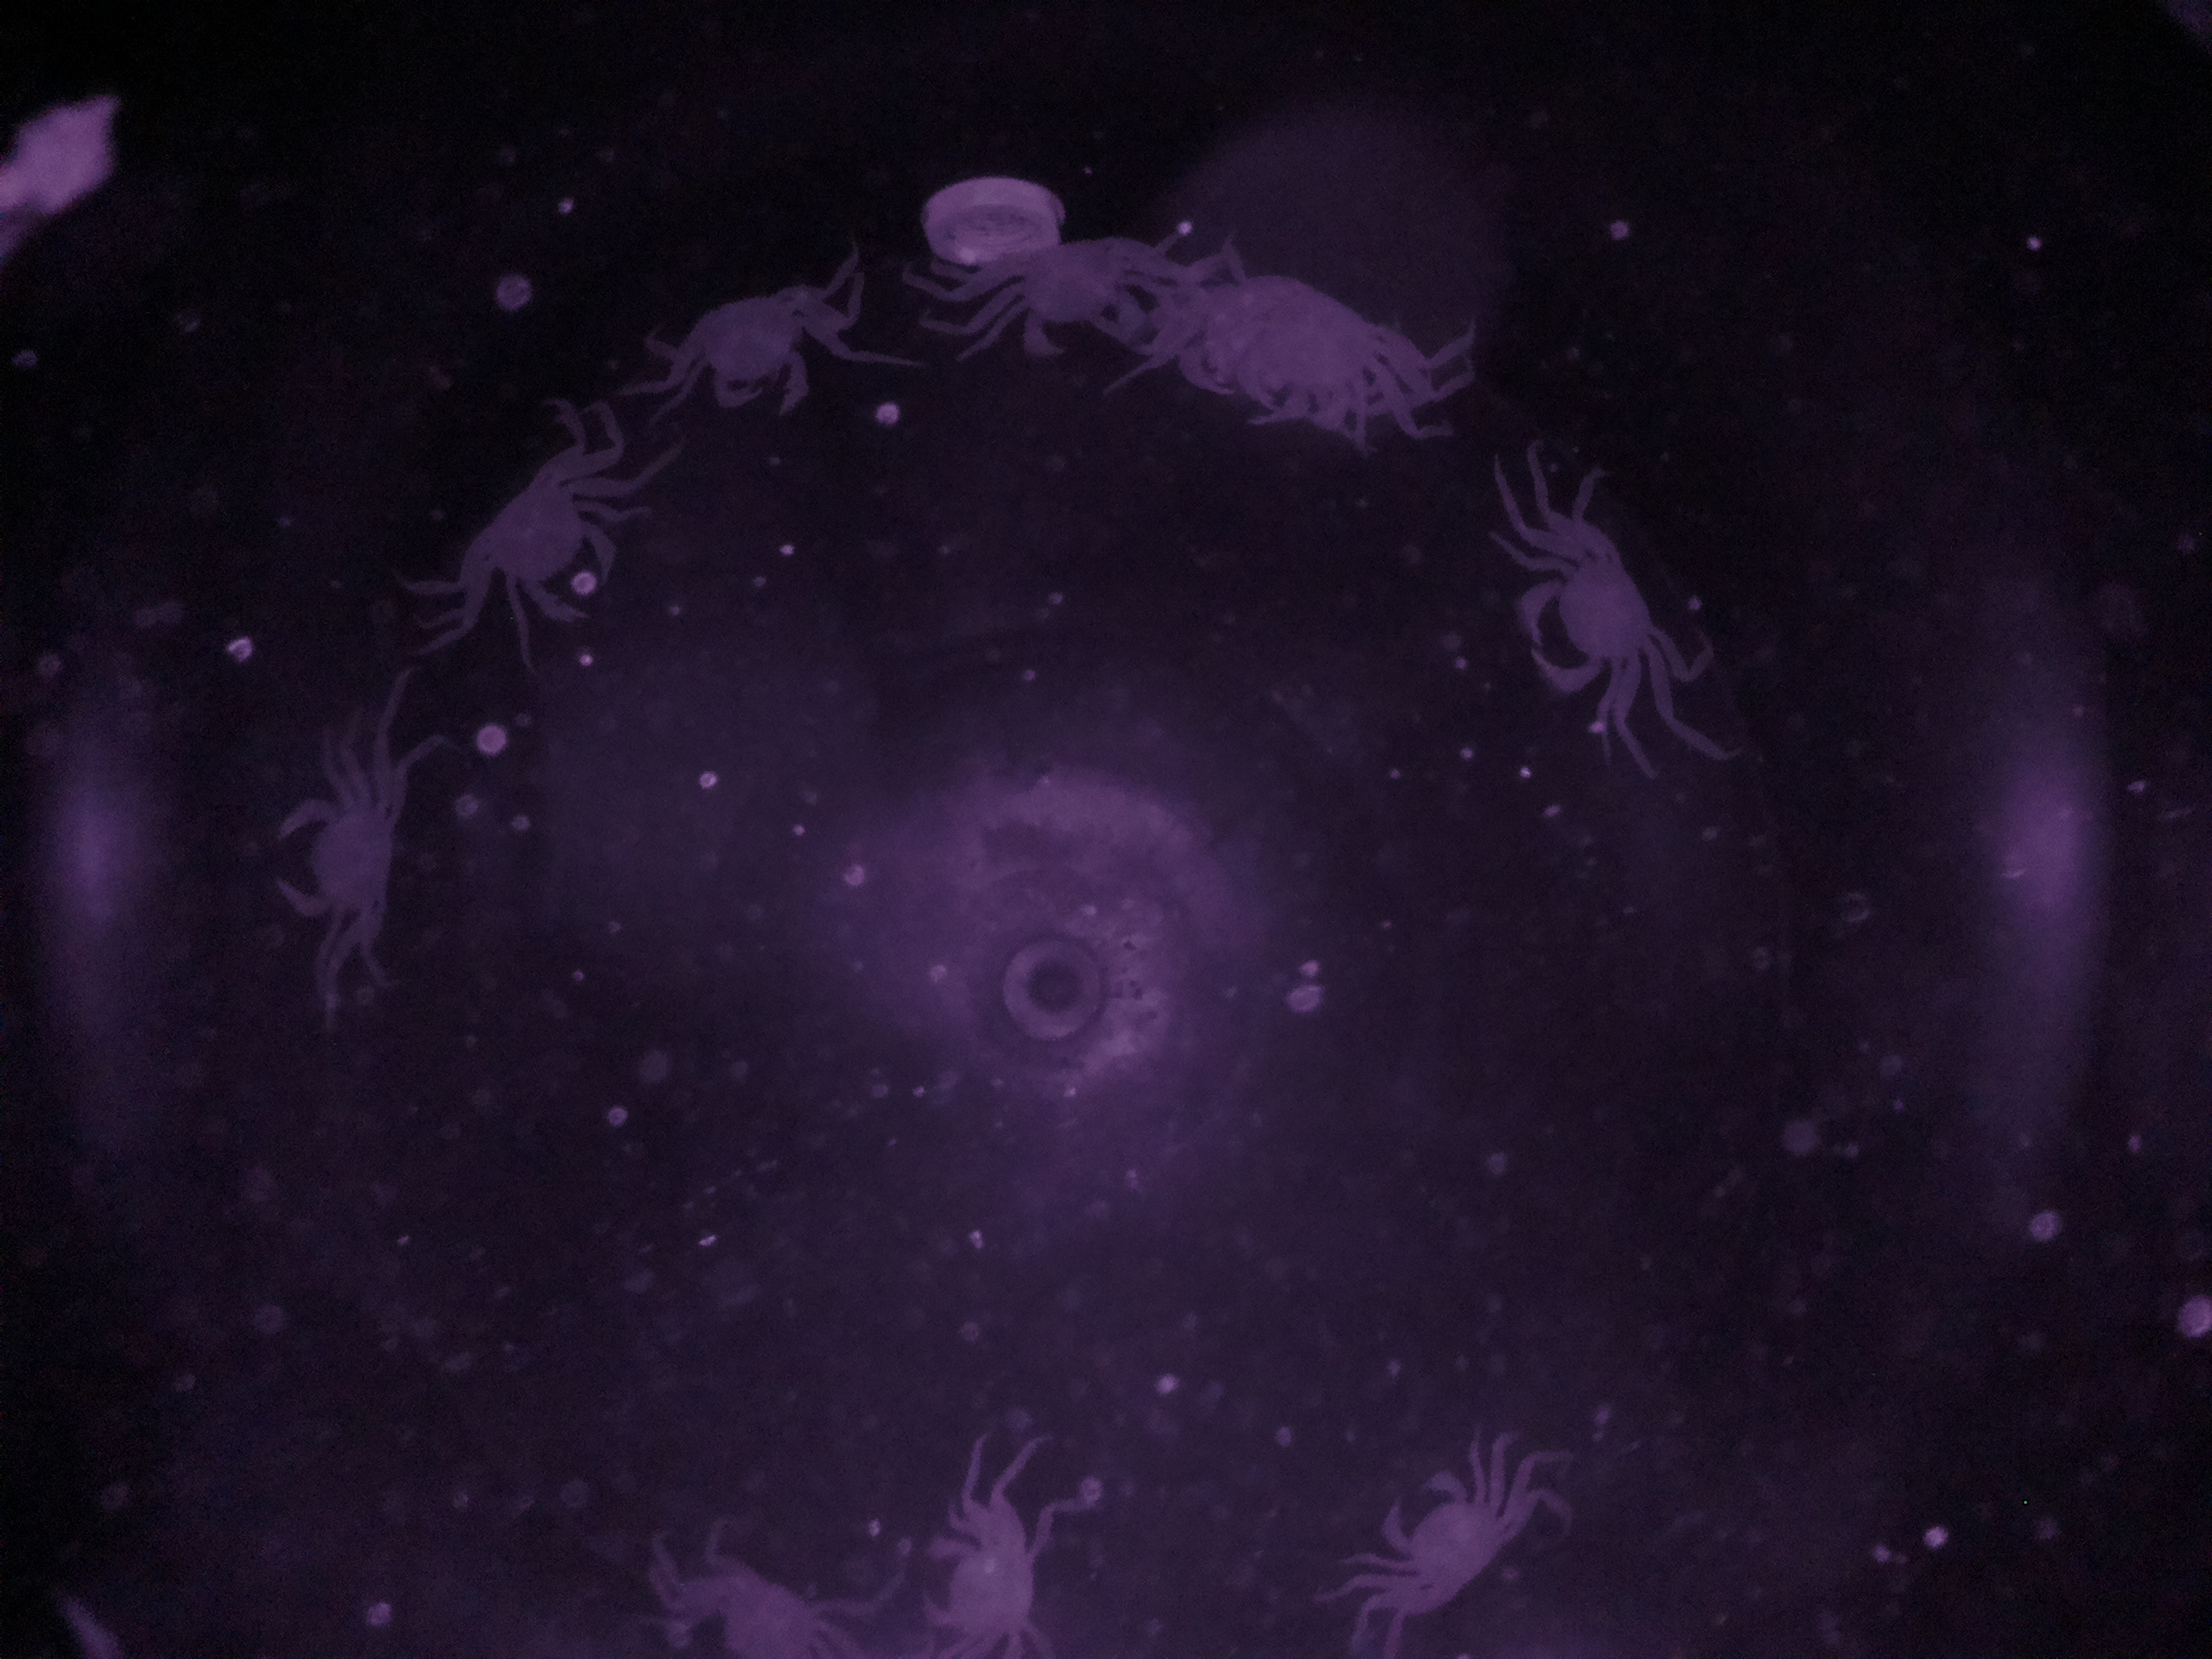Crab: (1503, 511, 1700, 735), (442, 446, 639, 640), (961, 209, 1176, 383), (1341, 1445, 1536, 1624), (672, 265, 853, 436), (913, 1497, 1059, 1659), (273, 786, 427, 931)
